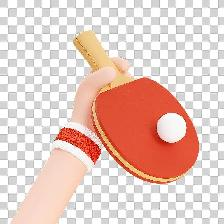WhiteBall: (155, 113, 186, 143)
